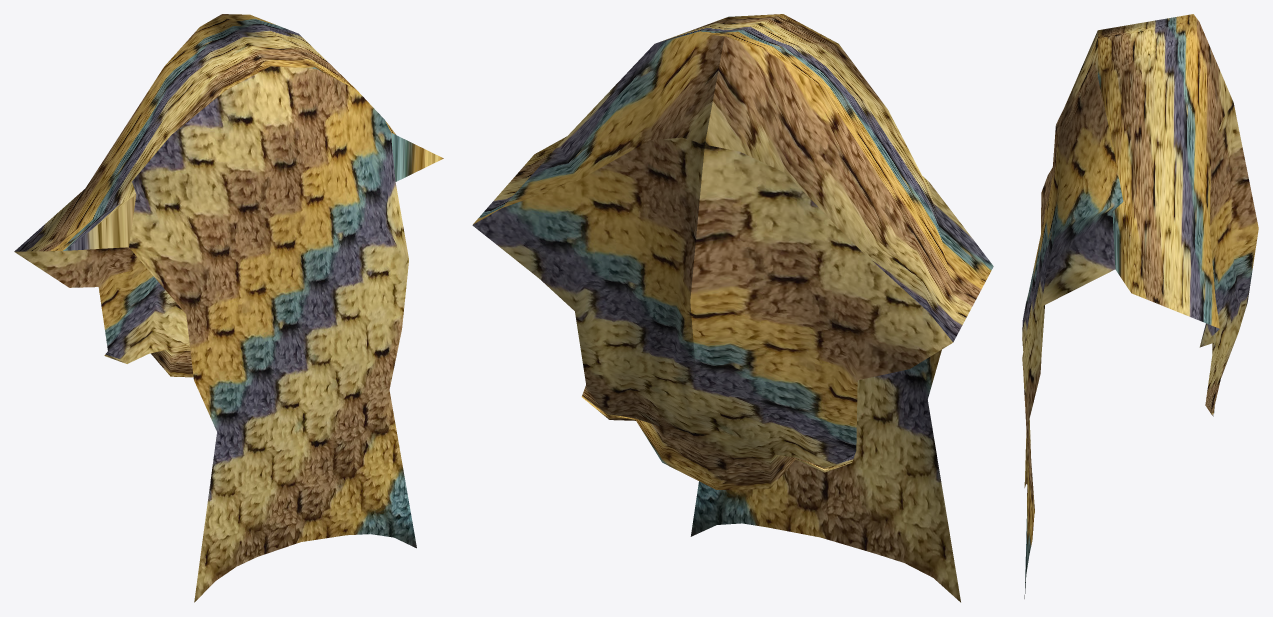
File: blanket.fbx
3 renders of one model, left to right at view 1: azimuth 30°, elevation 25°; view 2: azimuth 150°, elevation 25°; view 3: azimuth 270°, elevation 25°, orthographic. The views are drawn at different scales.
Visible parts, largest first — view 1: pPlane1; view 2: pPlane1; view 3: pPlane1.
Part boxes in pixels (x1,y1,x2,y2): pPlane1: (14,14,443,602); pPlane1: (472,14,993,602); pPlane1: (1022,14,1258,598).
Size of the model in its own units: 247 by 298 by 122.
1 material, 1 textured.
